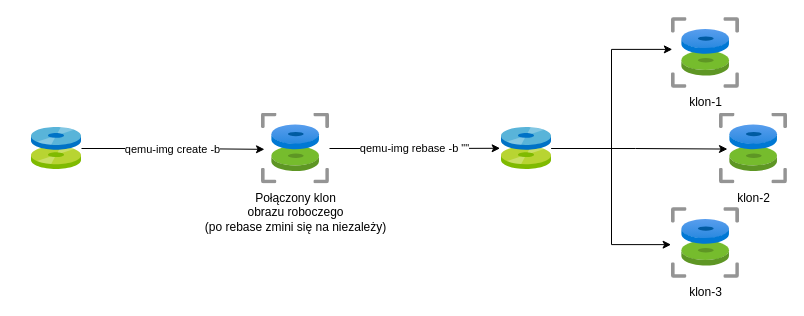
The diagram is 804 pixels wide and 316 high, and some of its shapes have lost their labels. Here are the shapes that lost their labels. From the top down, the centre of each, then its label:
At pixel 56 148: "Obraz roboczy".
At pixel 526 148: "Niezależny obraz z klona obrazu roboczego do_not_run".
